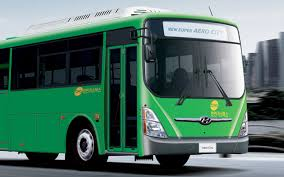out: (97, 8, 251, 165)
